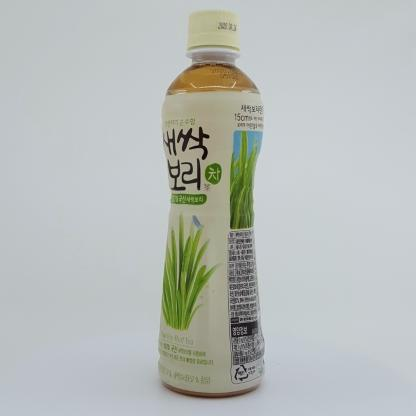CJ-----410ML: (157, 8, 267, 399)
